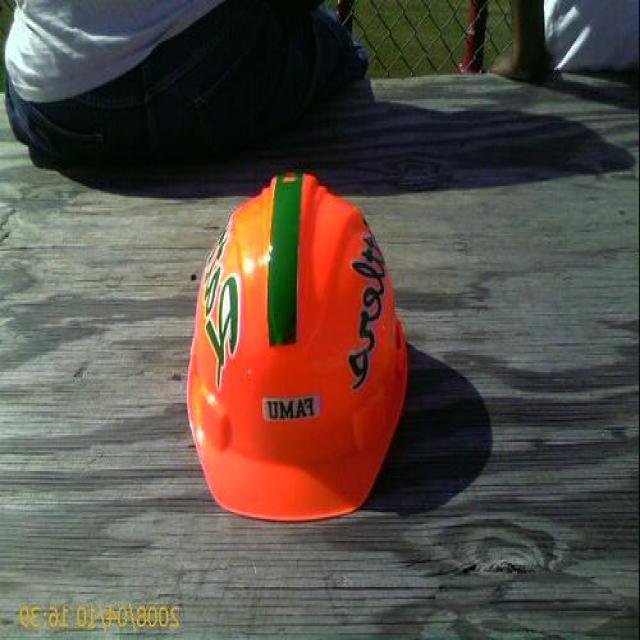Reflective-Jacket: (173, 166, 427, 517)
Safety-Helmet: (172, 162, 428, 519)
